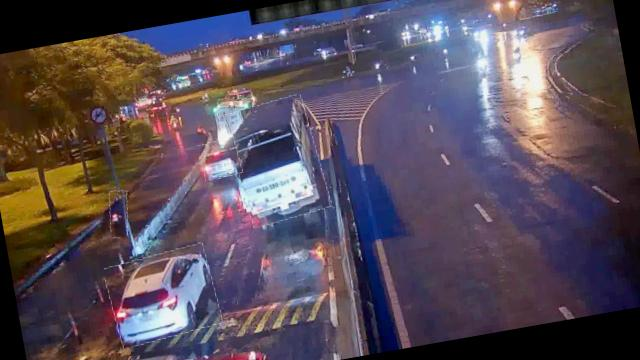Bike: (105, 188, 133, 238)
Car: (103, 244, 222, 346), (197, 136, 242, 180)
Truck: (224, 94, 330, 228), (212, 95, 258, 151)
